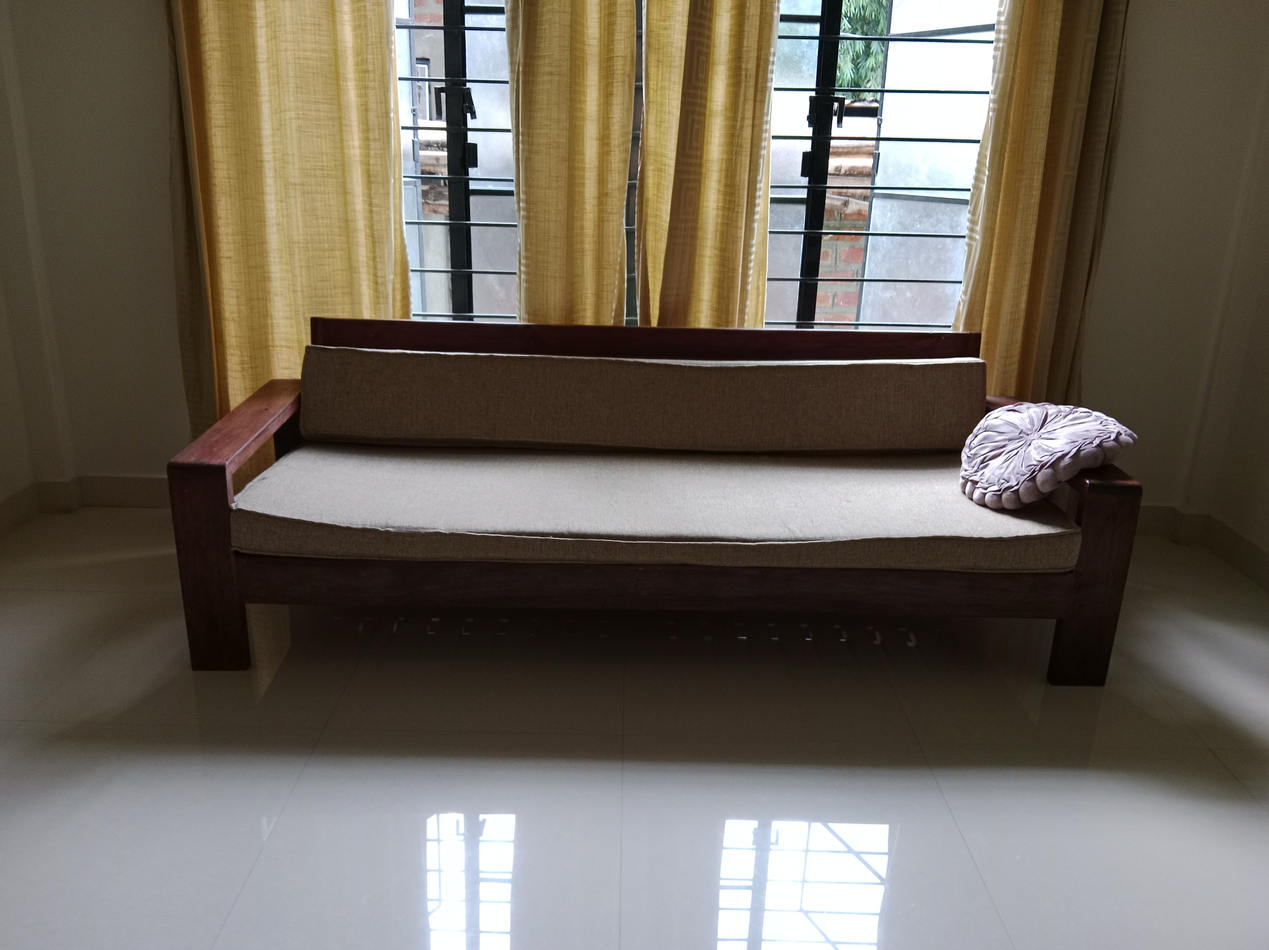sofa: (165, 314, 1140, 686)
